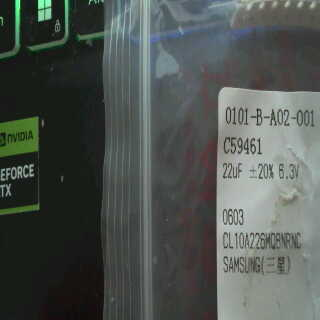22uF: (221, 158, 247, 182)
